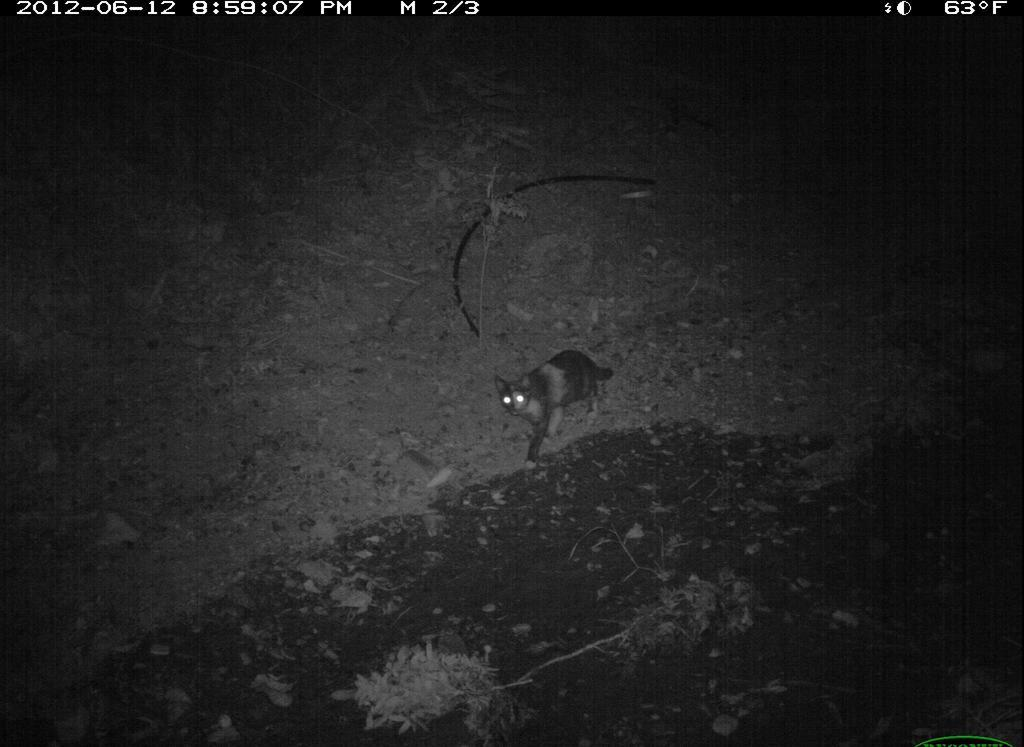cat: (482, 335, 646, 477)
